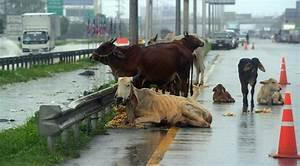cow: (89, 36, 194, 97), (113, 76, 212, 128), (237, 57, 265, 112)
